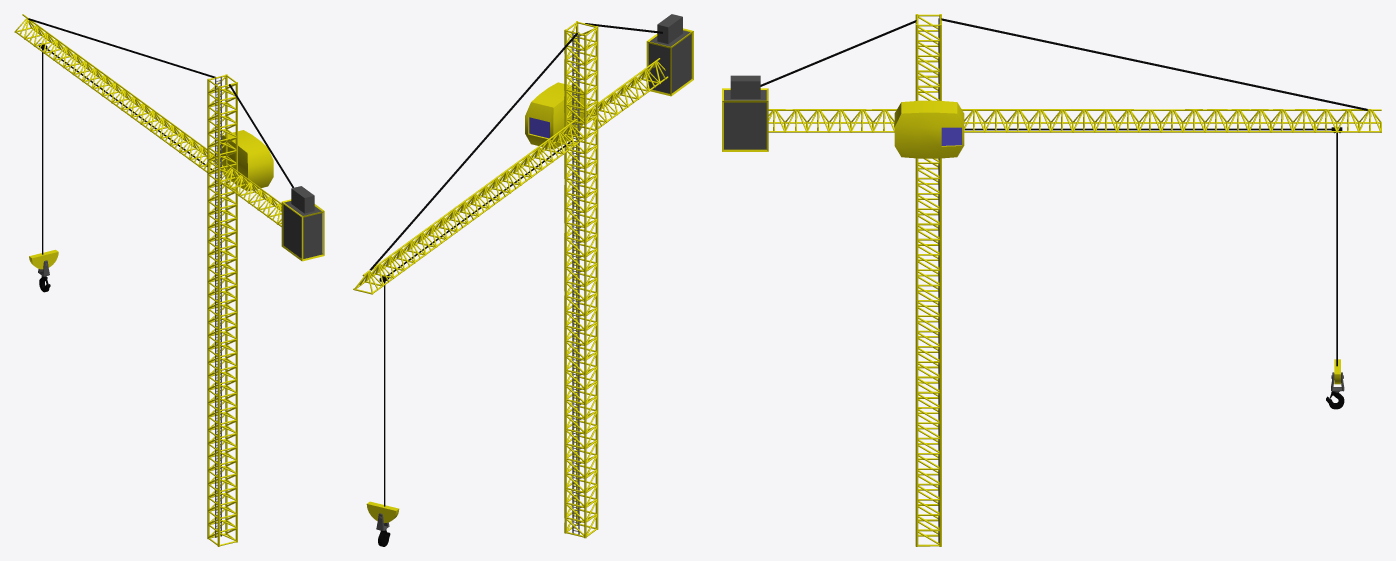
The model's file is Kran.fbx.
3 renders of one model, left to right at view 1: azimuth 30°, elevation 25°; view 2: azimuth 150°, elevation 25°; view 3: azimuth 270°, elevation 25°, orthographic. The views are drawn at different scales.
Visible parts, largest first — view 1: Obj_Crane; view 2: Obj_Crane; view 3: Obj_Crane.
Part boxes in pixels (x1,y1,x2,y2): Obj_Crane: (14,14,324,546); Obj_Crane: (353,14,693,546); Obj_Crane: (722,14,1381,546).
Bounding box in the file's own units: 1.15 × 10.33 × 11.83.
